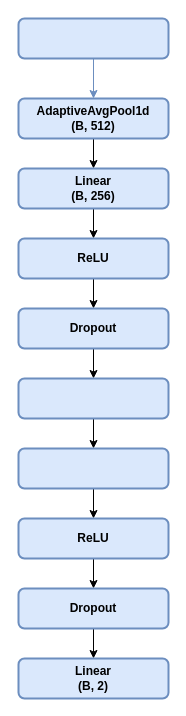
Some shapes in this 186 by 716 pixel diagram are drawn without their labels. Each missing label, with the centre of its shape:
"LayerNorm" belongs at pixel 93 468.
"Linear (B, 128)" belongs at pixel 93 398.
"Mimi embeddings (B, T, 512)" belongs at pixel 93 38.
